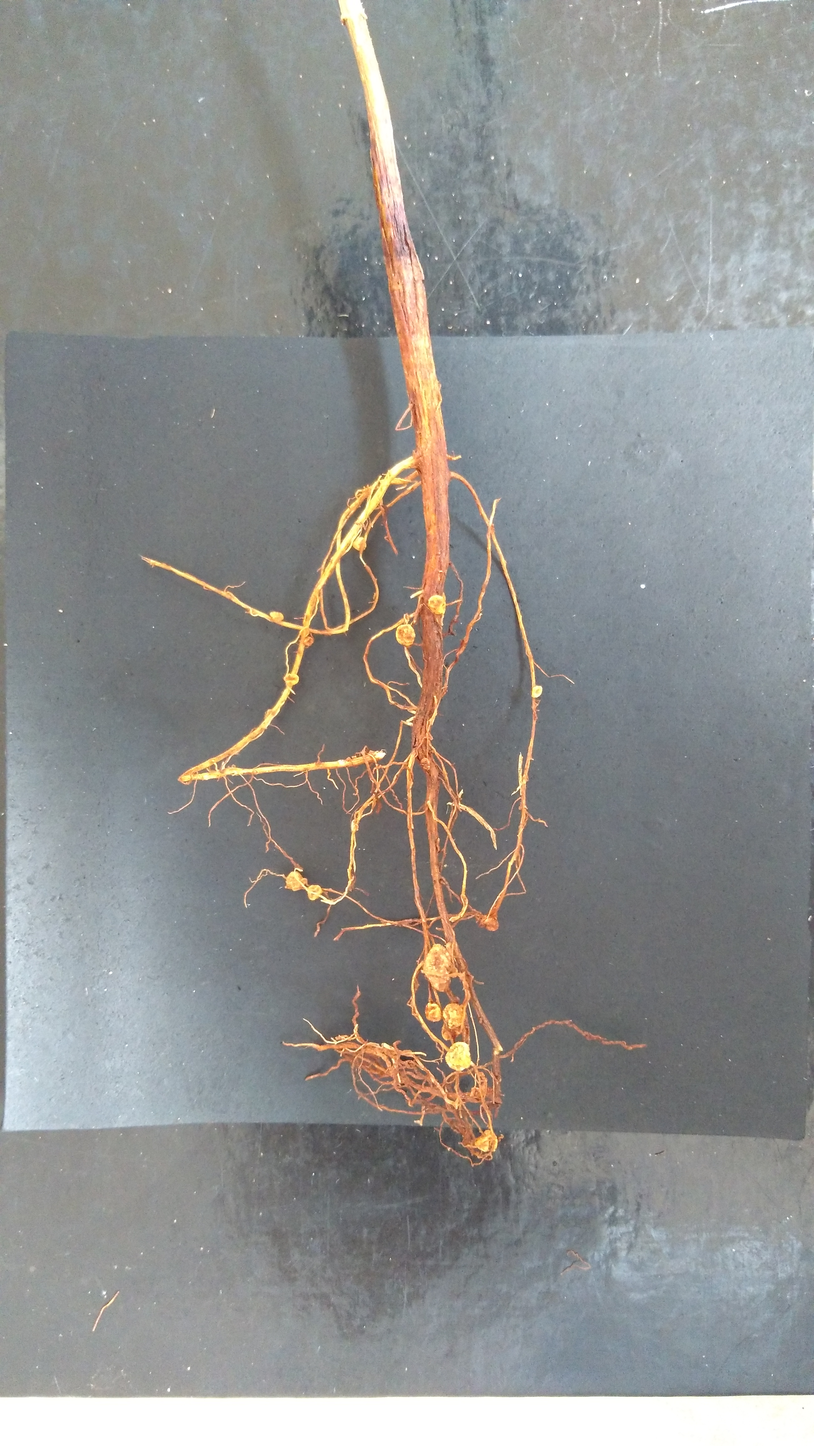nodule: (420, 941, 456, 994), (443, 1041, 473, 1072), (441, 1001, 466, 1029), (473, 1129, 499, 1154), (283, 868, 308, 893), (395, 623, 418, 647), (426, 593, 447, 616), (440, 1021, 463, 1041), (424, 1000, 443, 1024), (306, 883, 324, 903), (282, 671, 301, 688), (483, 916, 500, 933), (351, 537, 367, 552), (268, 610, 285, 622), (419, 756, 432, 771), (530, 684, 543, 698), (302, 635, 315, 647), (384, 535, 389, 542)
